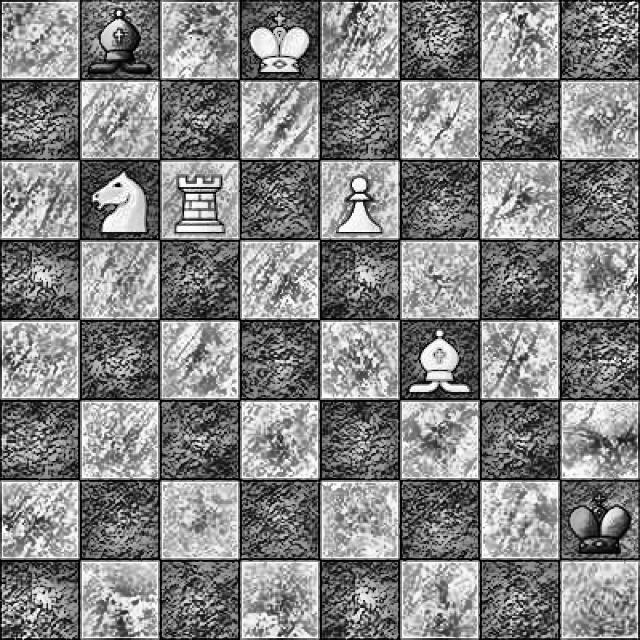black bishop: (81, 0, 159, 81)
black king: (562, 483, 638, 560)
white bishop: (400, 324, 478, 402)
white king: (240, 1, 319, 82)
white pawn: (319, 160, 398, 239)
white rook: (164, 158, 238, 240)
whiteknight: (80, 162, 157, 240)
